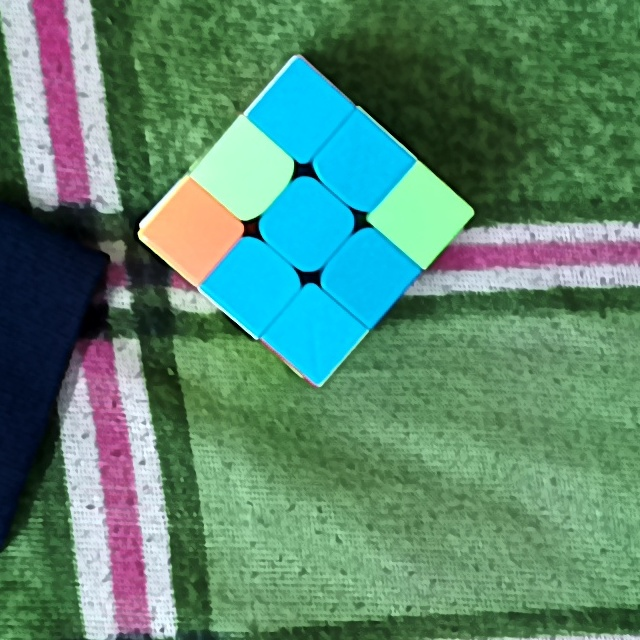tile: (167, 209, 222, 263), (294, 311, 346, 363), (273, 89, 329, 137), (398, 192, 452, 241), (340, 140, 389, 192), (346, 254, 398, 303), (218, 150, 271, 194), (283, 206, 335, 250), (233, 264, 282, 310)
